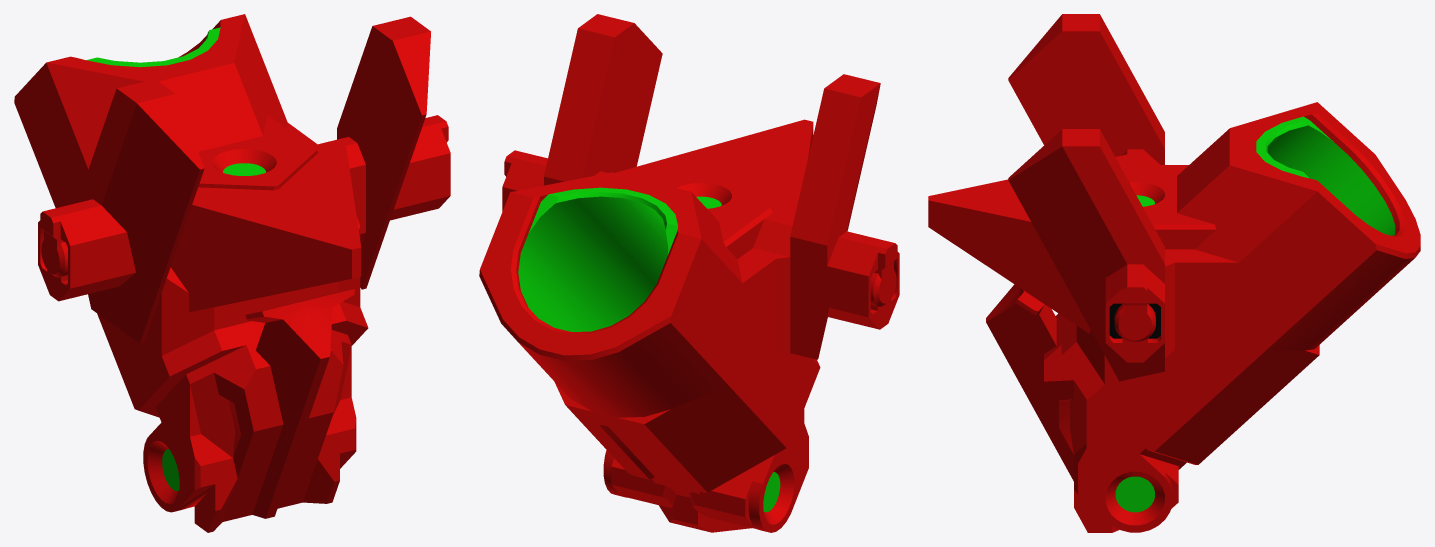
File: mech_modtest_torso_mesh.fbx
3 views of the same model, side by side, from view 1: azimuth 30°, elevation 25°; view 2: azimuth 150°, elevation 25°; view 3: azimuth 270°, elevation 25° (orthographic). The views are drawn at different scales.
Visible parts, largest first — view 1: mech_modtest_torso; view 2: mech_modtest_torso; view 3: mech_modtest_torso.
Boxes of the visible parts, bbox=[...] form: mech_modtest_torso: bbox=[14, 14, 450, 532]; mech_modtest_torso: bbox=[479, 14, 899, 532]; mech_modtest_torso: bbox=[928, 14, 1420, 532].
Size of the model in its own units: 213 by 237 by 249.
